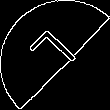L_SE: (26, 26, 84, 84)
